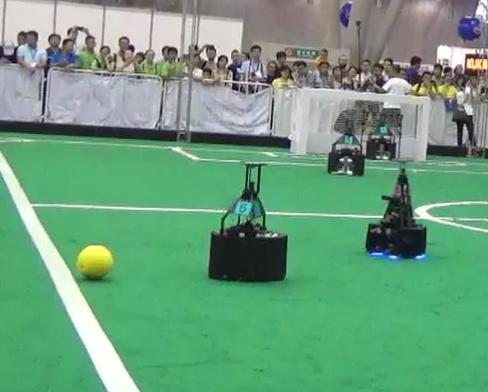robot: (207, 155, 289, 284), (360, 161, 434, 262), (325, 113, 368, 178)
